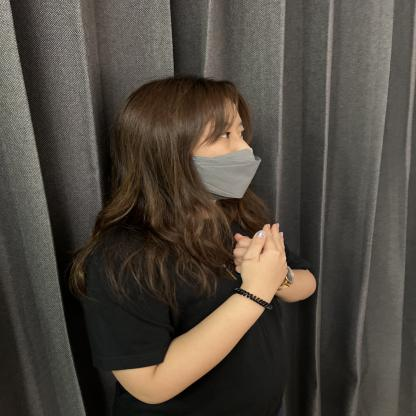Grieve: (152, 213, 332, 332)
